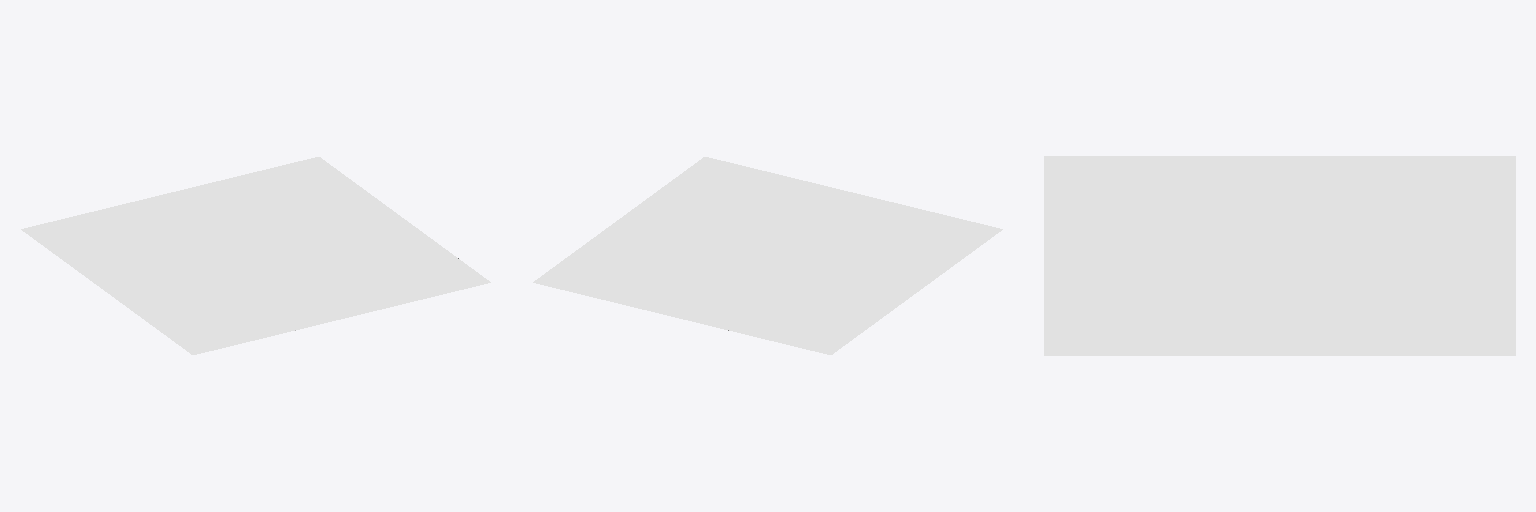
URDF robot description (walls):
<?xml version="1.0"?>
<robot name="walls">
<link name="walls">
    <visual>
      <geometry>
      	<box size="100 100 .001"/>
        <!--<mesh filename="package://laas_objects/res/obj/walls.obj"/>-->
      </geometry>
      <origin rpy="0 0 0" xyz="0 0 0.02"/>
      <!--<origin rpy="1.57075 0 -1.57075" xyz="-8.7 -3.54 -1.5"/>-->
      <material name="white">
        <color rgba="1 1 1 1"/>
      </material>
      <collision>
      <geometry>
        <box size="100 100 0.001"/>
      </geometry>
      <origin rpy="0 0 0" xyz="0 0 0"/>
    </collision>
    </visual>
</link>
</robot>

--- Render facts (derived) ---
Views: 3 orthographic renders of the robot side by side, from view 1: azimuth 30°, elevation 25°; view 2: azimuth 150°, elevation 25°; view 3: azimuth 270°, elevation 25°.
Robot: walls — 1 links, 0 joints (none); root link walls; default pose: all joints at 0.
Links seen in each view (by area): view 1: walls; view 2: walls; view 3: walls.
Link boxes in pixels (x1,y1,x2,y2): walls: [21, 157, 490, 354]; walls: [533, 157, 1002, 354]; walls: [1044, 156, 1515, 355].
Bounding box of the posed robot: 100 × 100 × 0.001 m (x, y, z).
Geometry: primitives only (box / cylinder / sphere), no mesh files.
